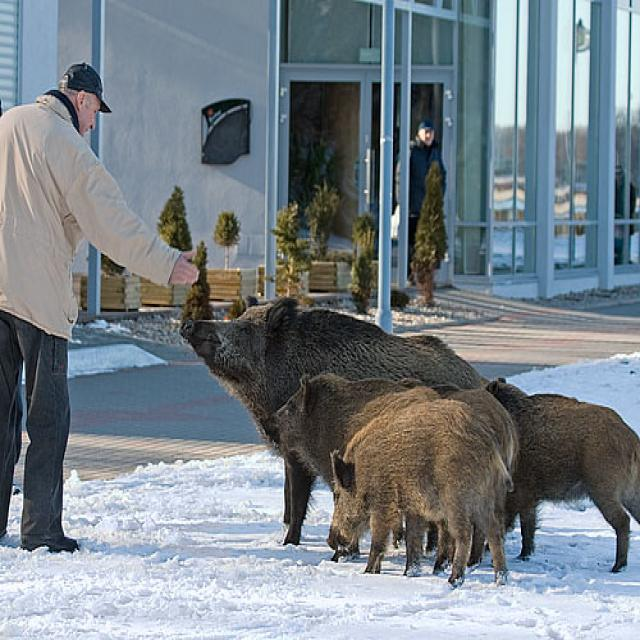boar: (160, 264, 528, 542), (242, 358, 461, 562), (460, 366, 640, 589), (330, 397, 520, 577)
